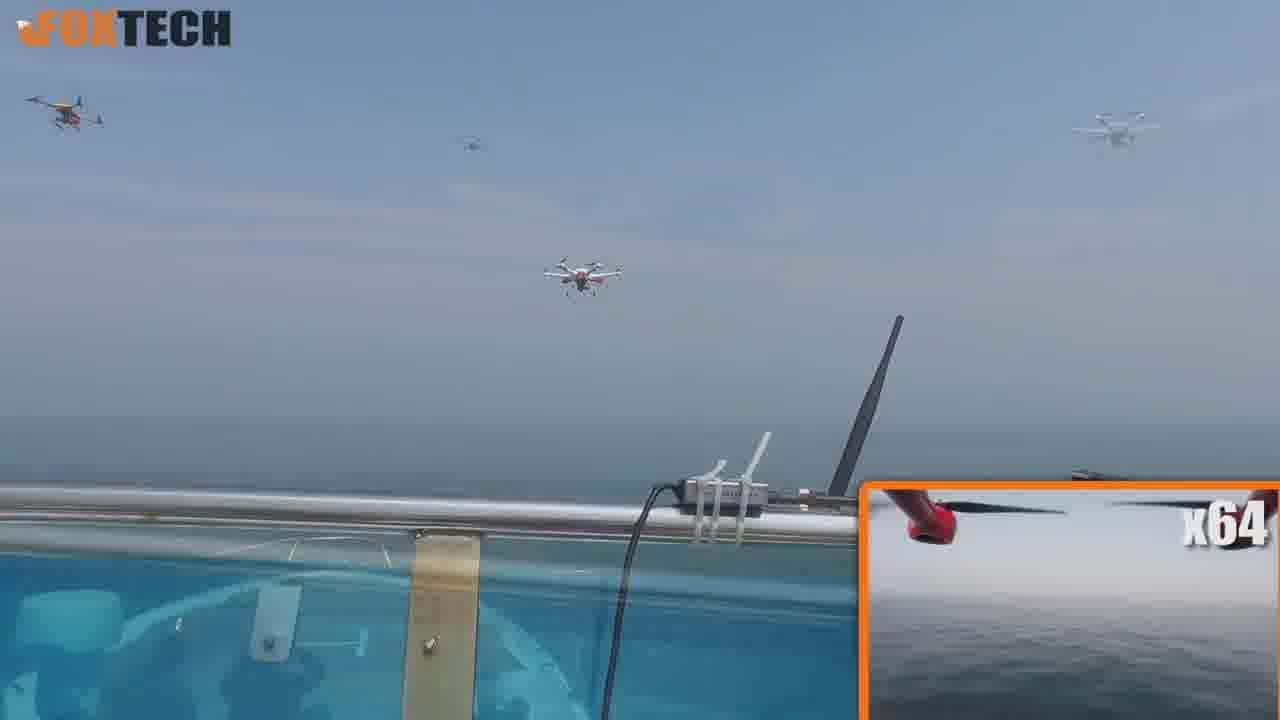drone: (1070, 111, 1161, 164), (23, 85, 107, 142), (538, 253, 626, 306)
